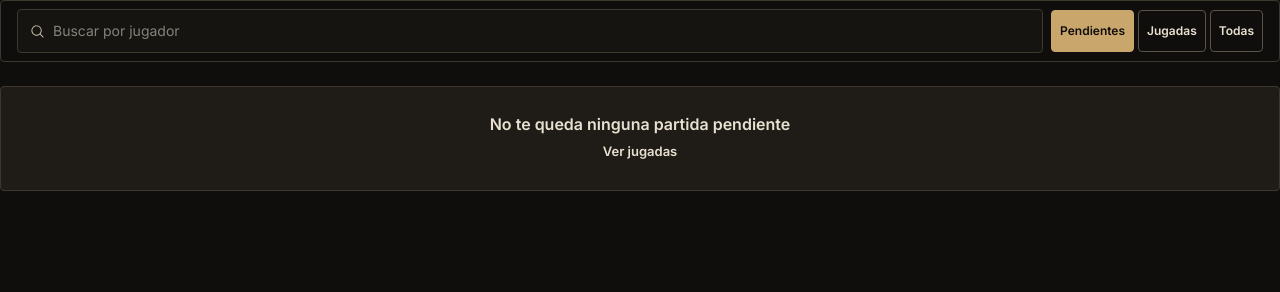
Scenario: CA-18: Pendientes sin nada pendiente ofrece «Ver jugadas» › el aviso lleva el texto de PLAYER y su botón cambia el filtro a Jugadas
Check: the element with test id "empty-no-pending" shows "No te queda ninguna partida pendiente", box [490,114,790,134]
Click the button with test id "empty-no-pending-see-jugadas": {"x": 640, "y": 152} [590,137,690,166]
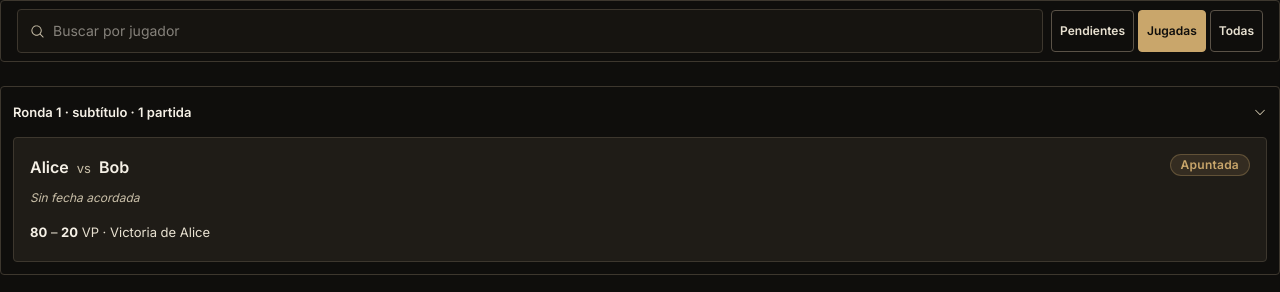
Check: the text "Alice" is shown, box [30,157,69,177]
